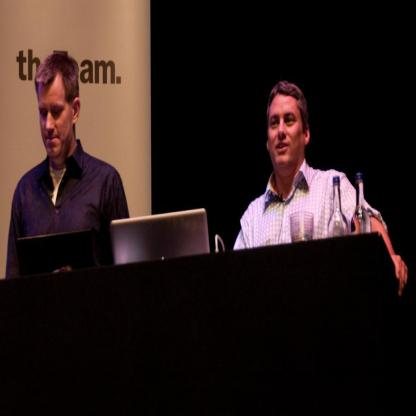board: (109, 207, 209, 264), (17, 224, 96, 277), (328, 175, 348, 239), (351, 174, 371, 236)
